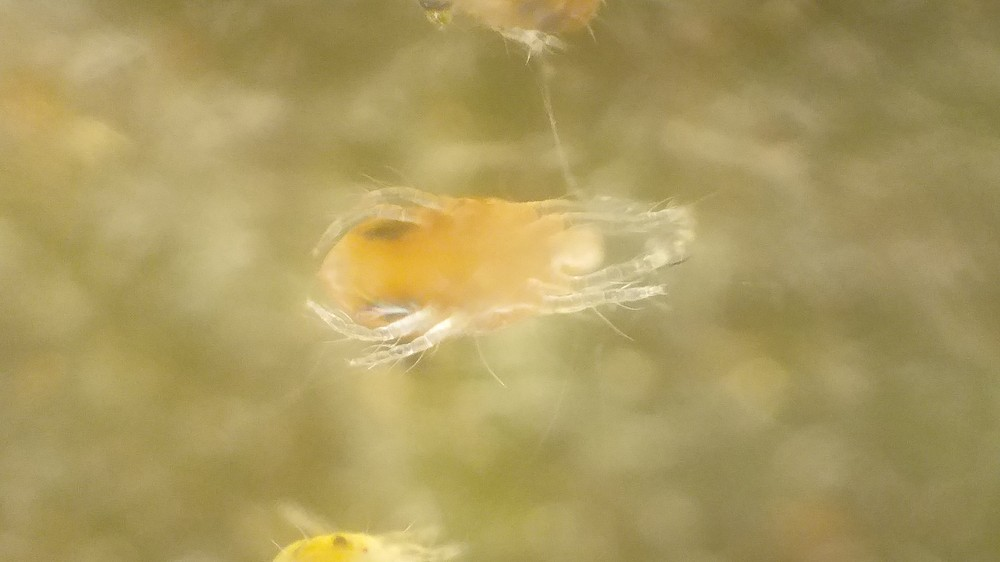Aracnido Rojo: (278, 156, 740, 365)
